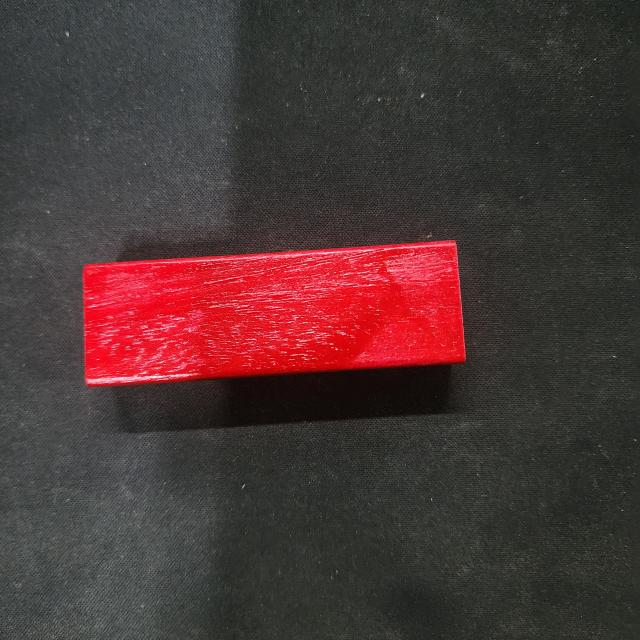red: (78, 240, 467, 387)
